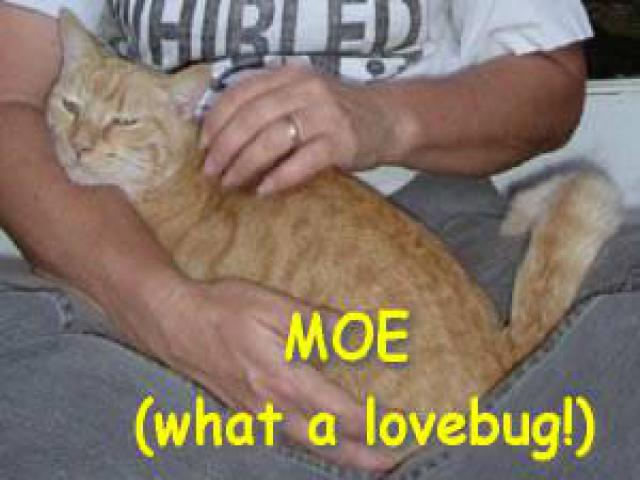cat: (42, 6, 306, 330)
